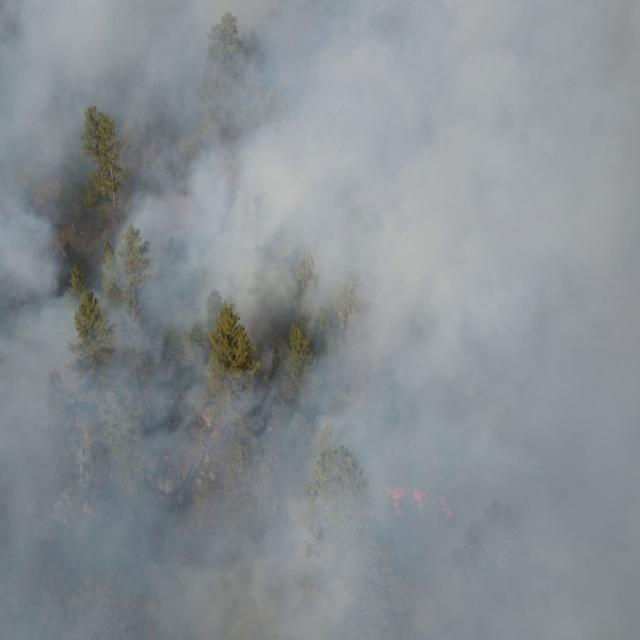fire: (381, 482, 428, 522), (436, 486, 459, 520)
smoke: (0, 0, 640, 640)
